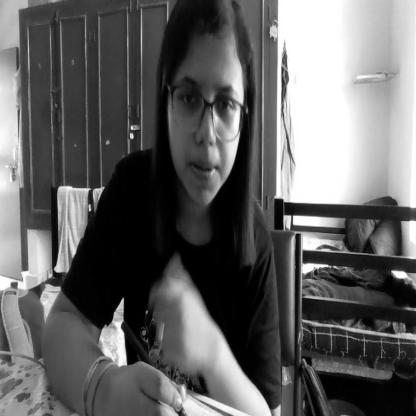Normal: (142, 3, 260, 200)
